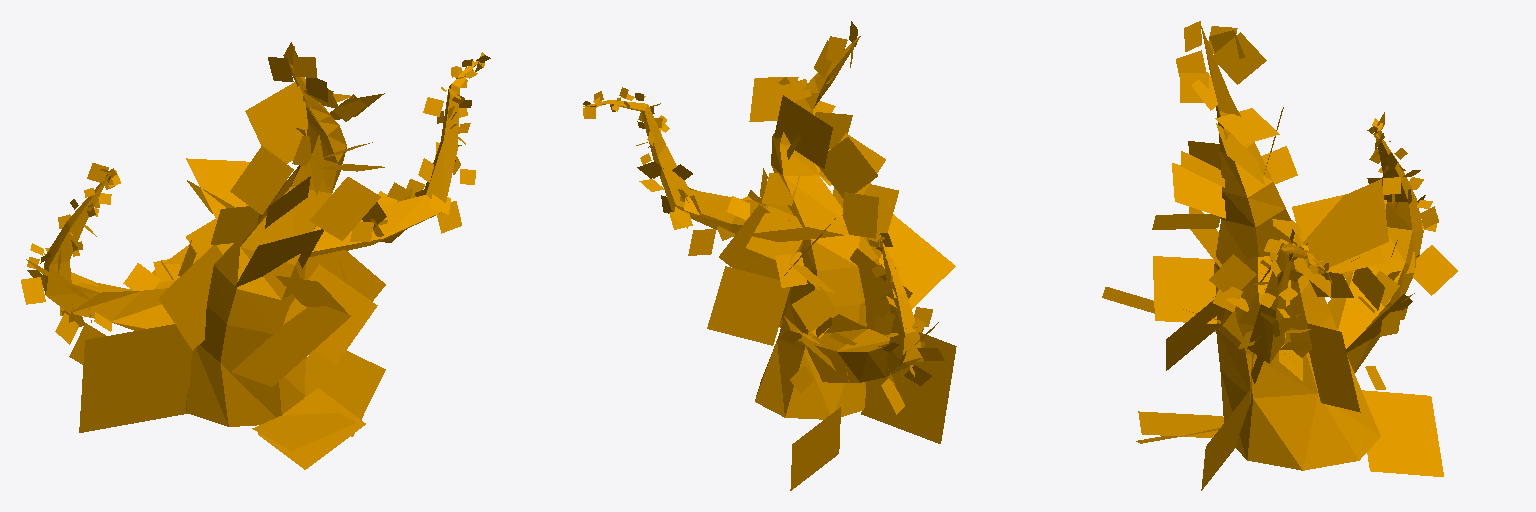
The robot description file, URDF, robot "simple_box":
<robot name="simple_box">
  <link name="tree">
    <inertial>
      <origin xyz="0 0 0" />
      <mass value="10.0" />
      <inertia  ixx="1.0" ixy="0.0"  ixz="0.0"  iyy="100.0"  iyz="0.0"  izz="1.0" />
    </inertial>
    <visual>
      <origin xyz="0 0 -1" rpy="1.57 0 0"/>
      <geometry>
        <mesh filename="package://patrolling_sim/meshes/Vine/Vine_growth_03.stl" scale="0.0065 0.0065 0.0065"/>
      </geometry>
    </visual>   
     <collision>
      <origin xyz="0 0 -1" rpy="1.57 0 0"/>
      <geometry>
        <mesh filename="package://patrolling_sim/meshes/Vine/Vine_growth_03.stl" scale="0.0065 0.0065 0.0065"/>
      </geometry>
    </collision>
  </link>
  <gazebo reference="tree">
    <material>Gazebo/Wood</material>
  </gazebo>
</robot>

--- Facts derived from the render (not from the file) ---
3 views of the same robot in one strip: view 1: azimuth 30°, elevation 25°; view 2: azimuth 150°, elevation 25°; view 3: azimuth 270°, elevation 25° (orthographic).
Robot: simple_box — 1 links, 0 joints (none); root link tree; default pose: every joint at zero.
Visible links, largest first — view 1: tree; view 2: tree; view 3: tree.
Link boxes in pixels (left/top/right/bottom): tree: left=21, top=42, right=490, bottom=469; tree: left=583, top=21, right=956, bottom=490; tree: left=1102, top=21, right=1457, bottom=490.
Size in the robot's own frame: 2.32 by 1.48 by 2.18 metres.
1 mesh visuals loaded from 1 distinct referenced files (1 ASCII STL).